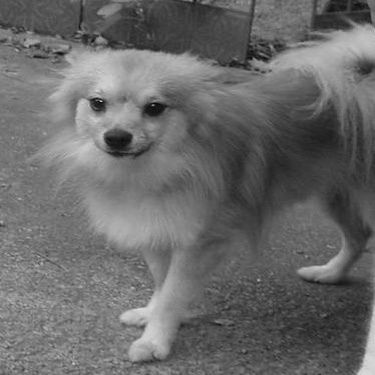dog: (32, 12, 370, 363)
